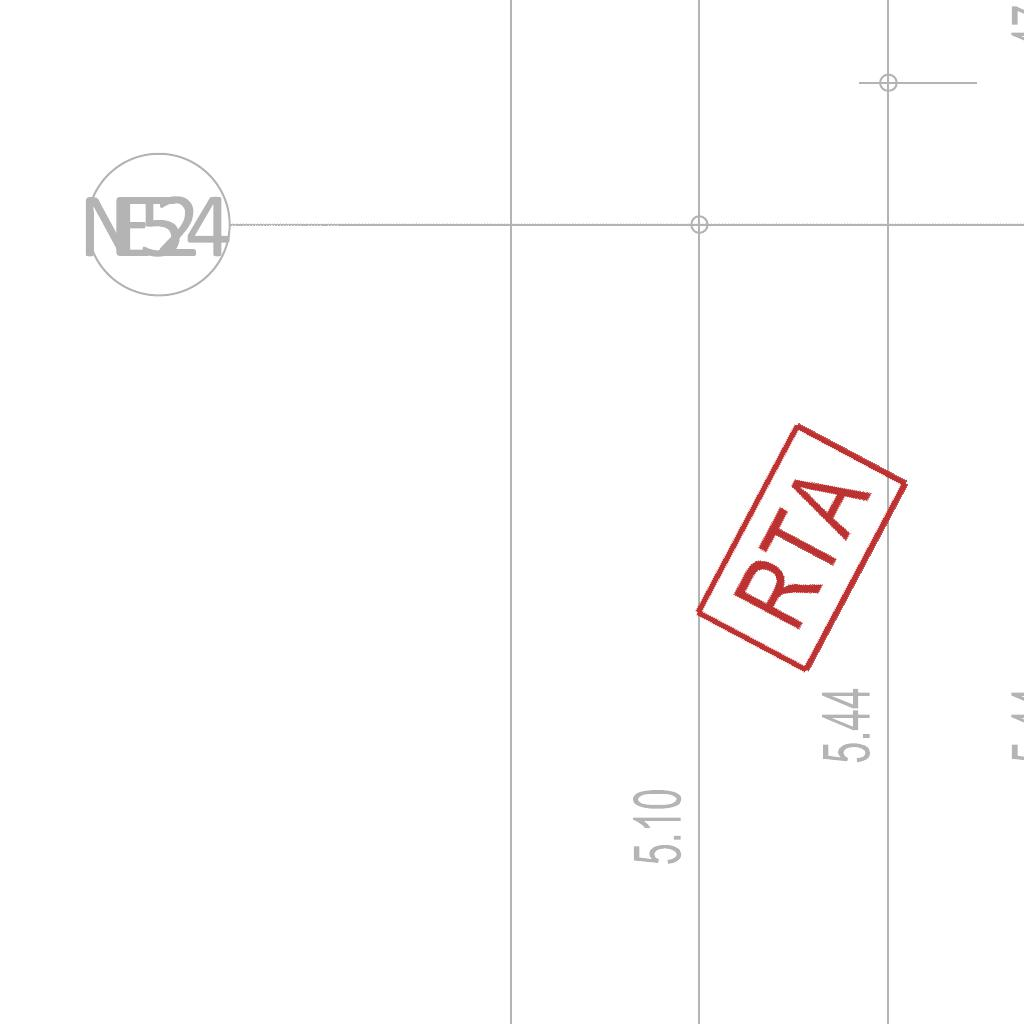Ruf-und_Abstelltaster: (686, 416, 916, 684)
